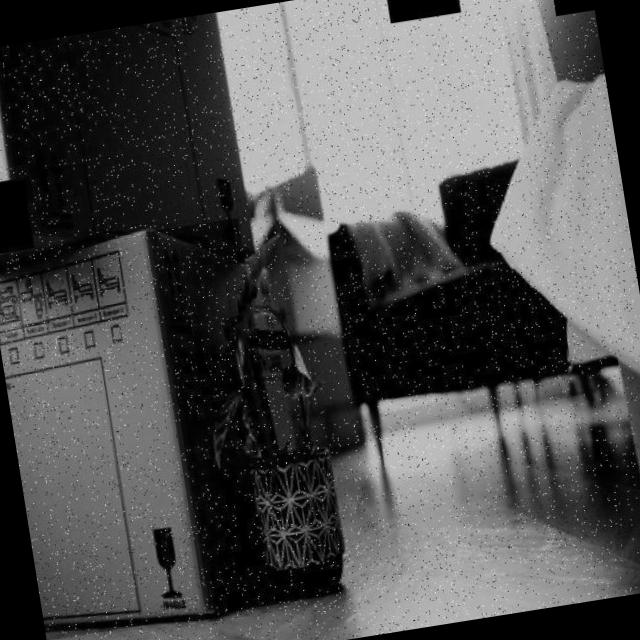box: (0, 217, 299, 640), (0, 11, 263, 294)
